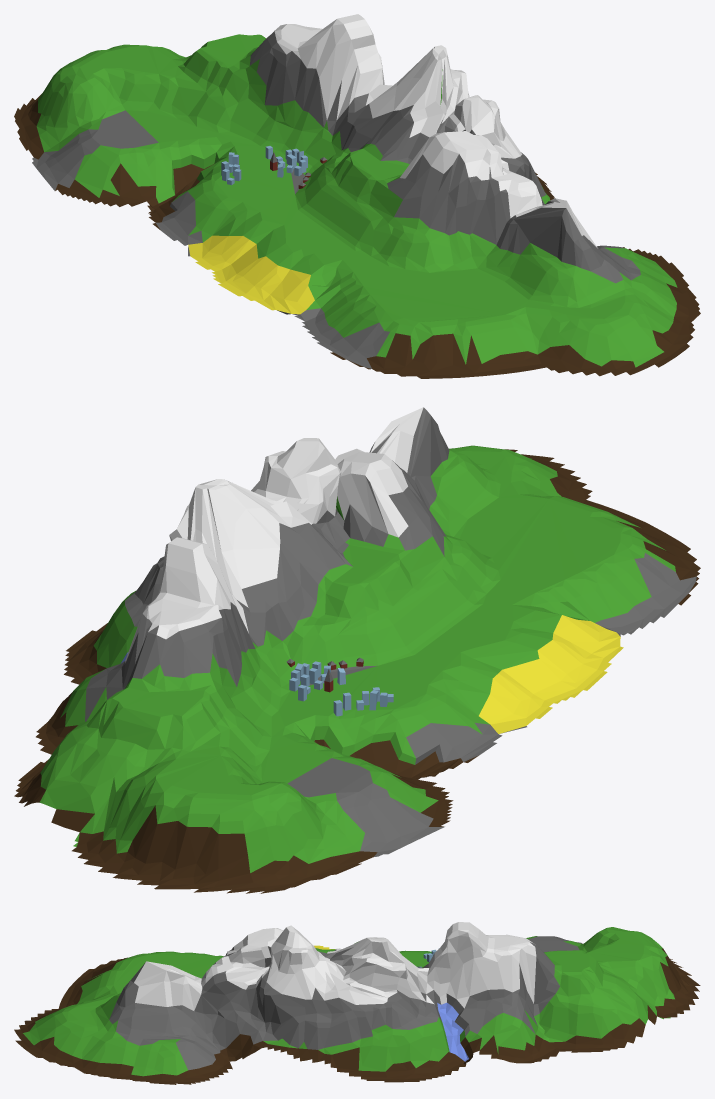
File: Island5.glb
3 renders of one model, top to bottom at view 1: azimuth 30°, elevation 25°; view 2: azimuth 150°, elevation 25°; view 3: azimuth 270°, elevation 25°, orthographic. The views are drawn at different scales.
Parts seen in each view (by area): view 1: Mountainous; view 2: Mountainous; view 3: Mountainous.
Boxes of the visible parts, x1,y1,x2,y2 form: Mountainous: (14,14,700,378); Mountainous: (14,407,700,893); Mountainous: (14,922,700,1084).
Bounding box in the file's own units: 8.25 × 2.95 × 16.33.
